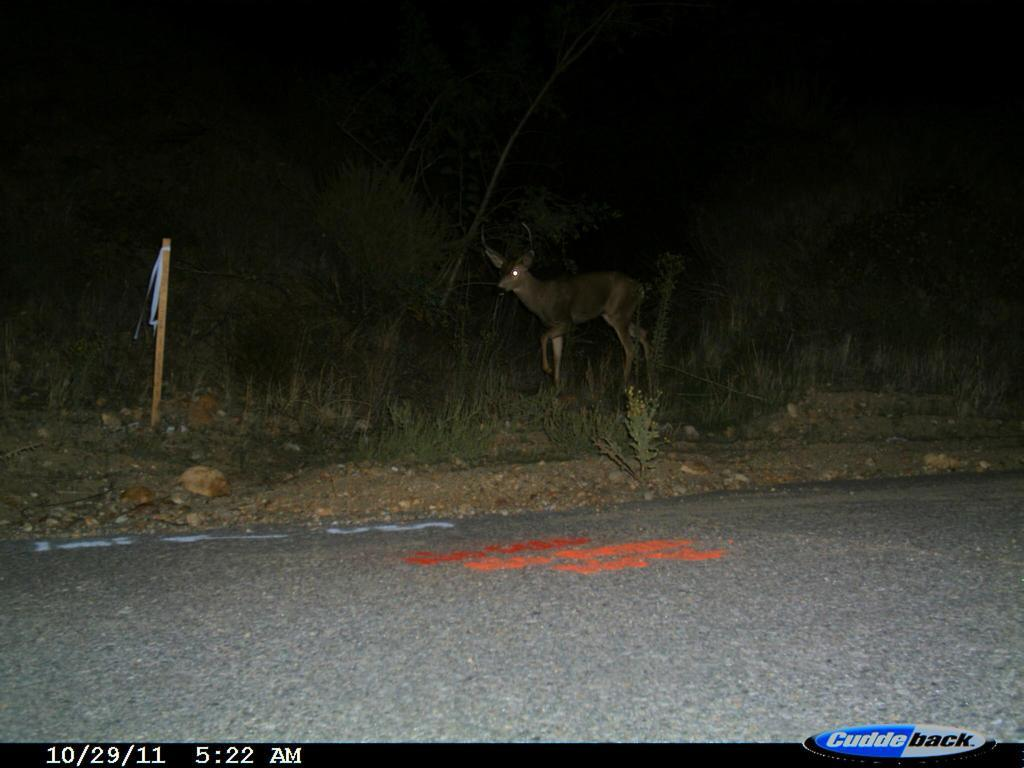deer: (470, 213, 667, 410)
